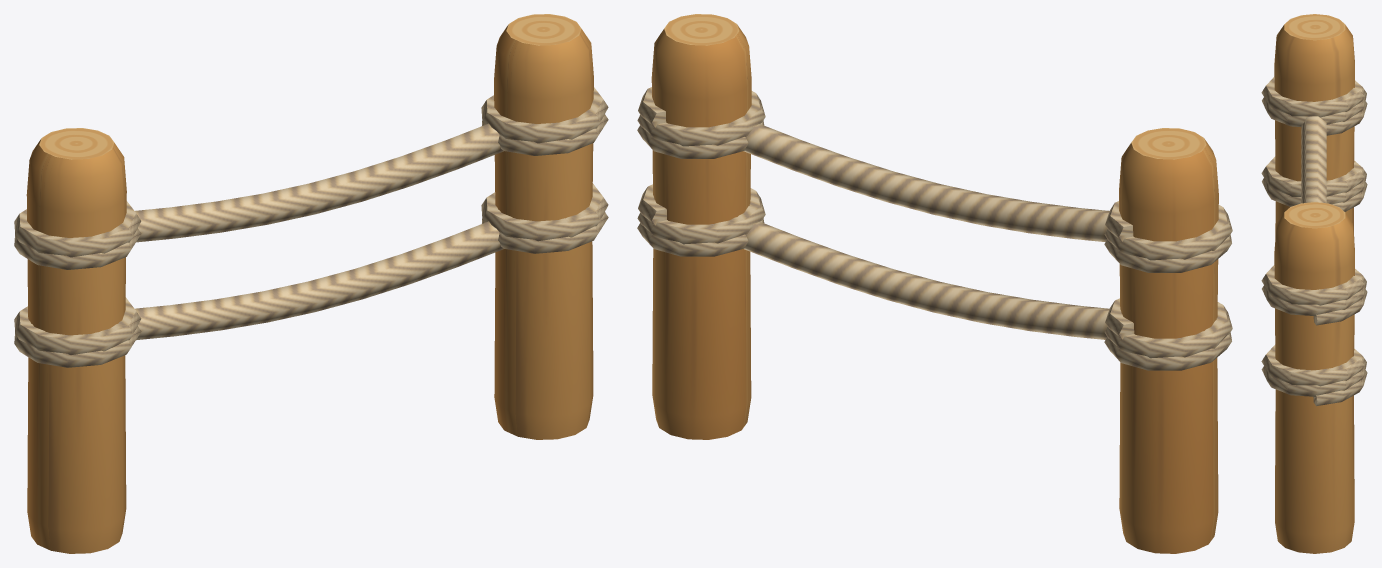
The model's file is fence_2m.glb.
3 renders of one model, left to right at view 1: azimuth 30°, elevation 25°; view 2: azimuth 150°, elevation 25°; view 3: azimuth 270°, elevation 25°, orthographic. The views are drawn at different scales.
Visible parts, largest first — view 1: fence_2m; view 2: fence_2m; view 3: fence_2m.
Part boxes in pixels (<box>): fence_2m: <box>14,14,608,553</box>; fence_2m: <box>637,14,1232,553</box>; fence_2m: <box>1261,14,1367,553</box>.
Size of the model in its own units: 1.24 by 0.8 by 0.2384.
Materials: 3 (3 with a texture image).
